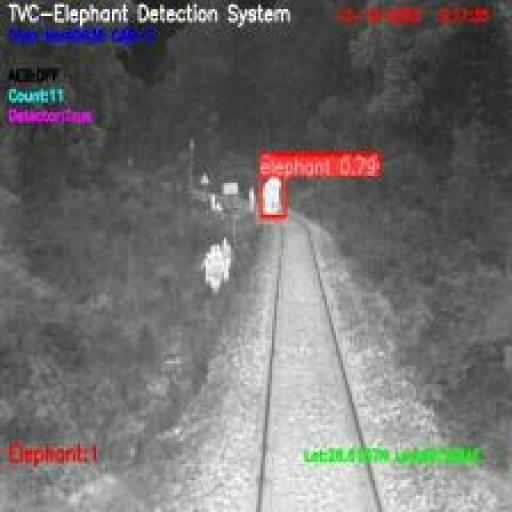Elephant: (260, 176, 284, 219)
